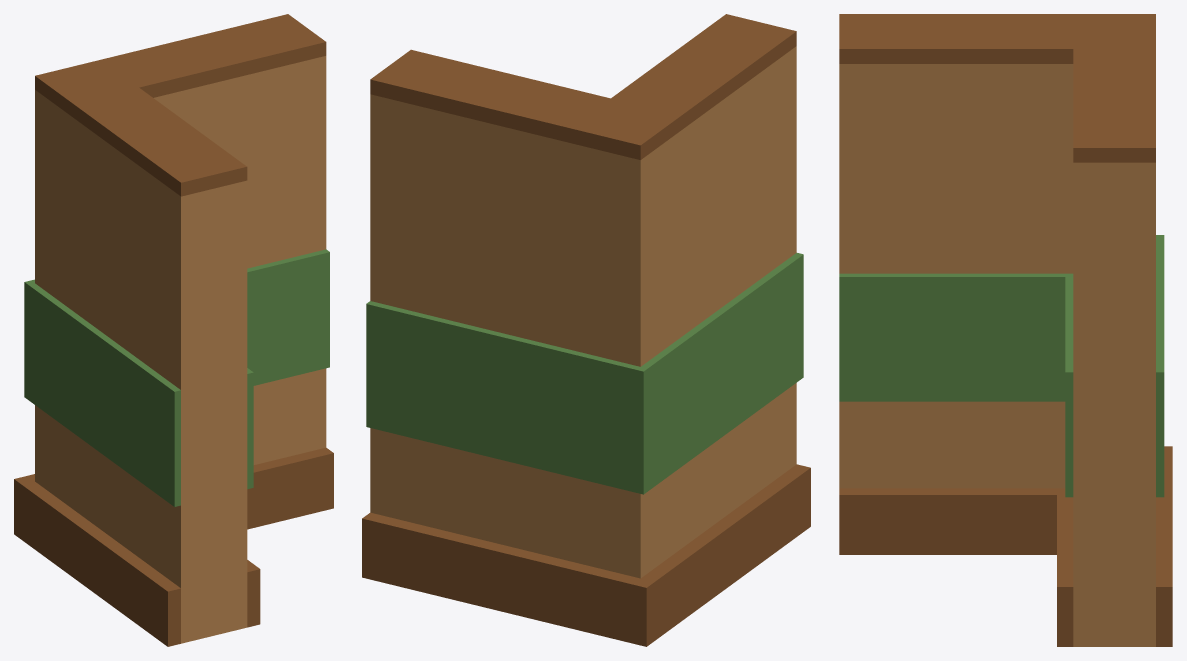
The model's file is partition-full-elbow.glb.
3 views of the same model, side by side, from view 1: azimuth 30°, elevation 25°; view 2: azimuth 150°, elevation 25°; view 3: azimuth 270°, elevation 25° (orthographic). The views are drawn at different scales.
Parts seen in each view (by area): view 1: partition-full-elbow; view 2: partition-full-elbow; view 3: partition-full-elbow.
Boxes of the visible parts, <box> form: partition-full-elbow: <box>14,14,333,646</box>; partition-full-elbow: <box>362,14,810,646</box>; partition-full-elbow: <box>839,14,1172,646</box>.
Size of the model in its own units: 0.605 by 1 by 0.605.
1 material, 1 textured.
